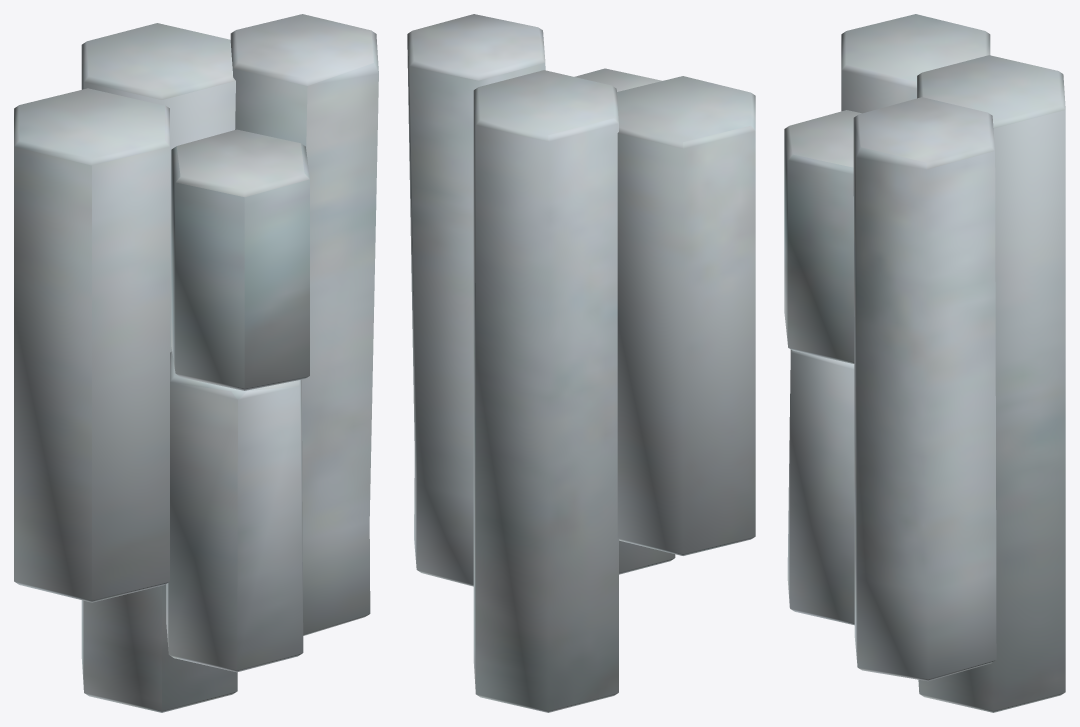
The model's file is P_RockHexic_Rocks03.obj.
3 renders of one model, left to right at view 1: azimuth 30°, elevation 25°; view 2: azimuth 150°, elevation 25°; view 3: azimuth 270°, elevation 25°, orthographic. The views are drawn at different scales.
Bounding box in the file's own units: 9.83 × 16.11 × 6.82.
